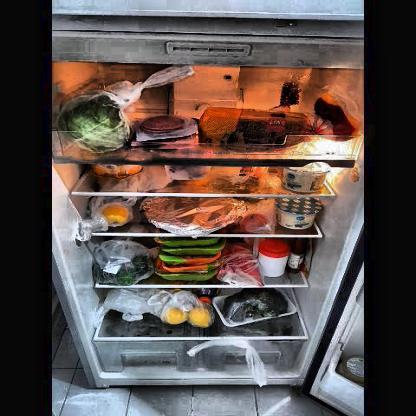broccoli: (223, 289, 286, 318)
chicken: (157, 237, 219, 279)
lemon: (102, 204, 130, 224), (190, 309, 213, 326), (165, 308, 185, 324)
lettuce: (65, 99, 130, 152)
salami: (140, 116, 186, 130)
tomato: (243, 212, 268, 230)
yoghurt: (276, 198, 318, 228), (284, 167, 328, 190)
